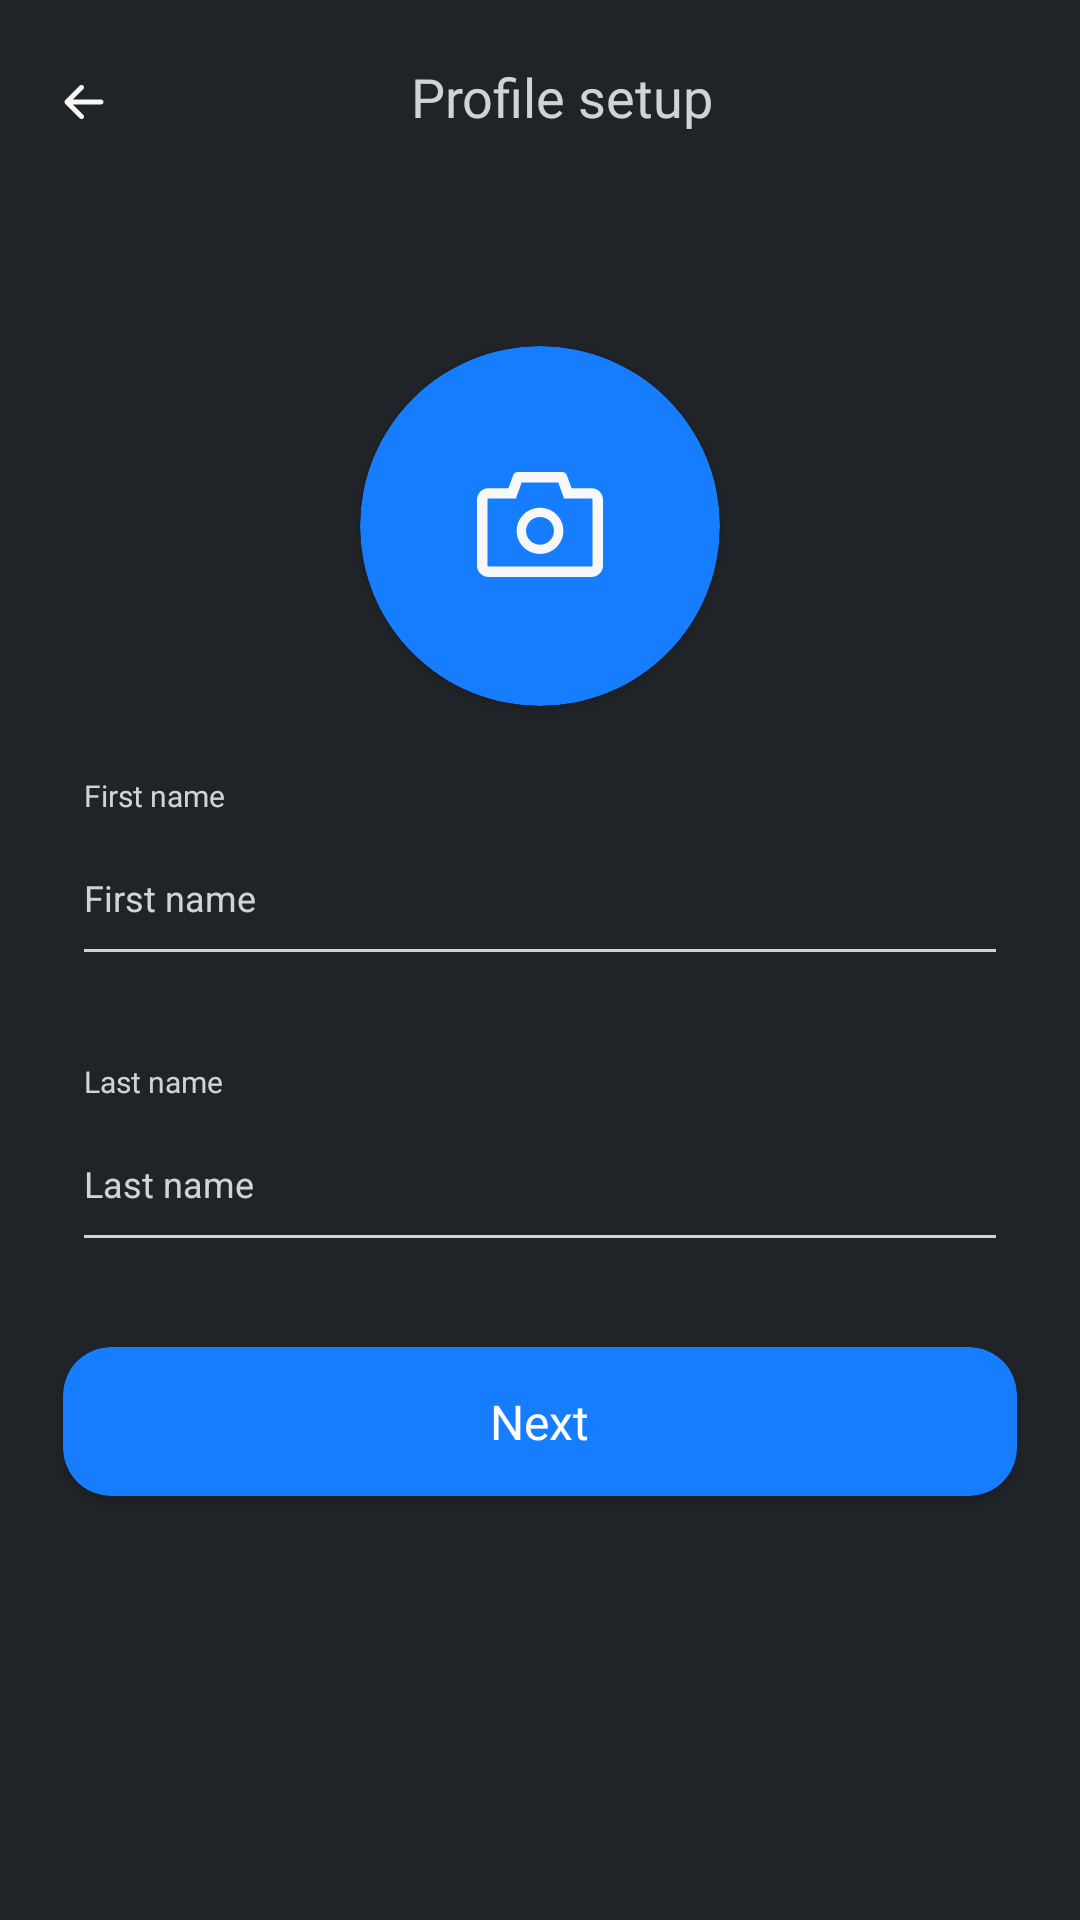

Icons on this 1080px×1920px Android screen, each with the point to tap as (x,y):
bi arrow left short: (84,102)
